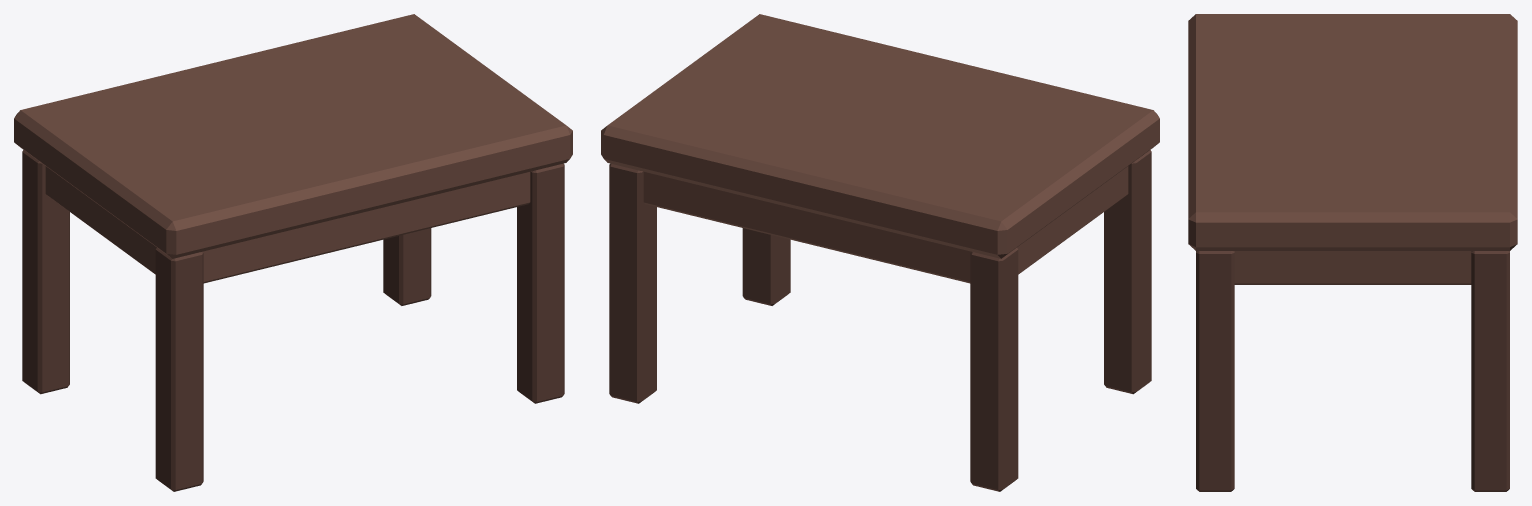
Rendered from table_couloir.glb.
3 views of the same model, side by side, from view 1: azimuth 30°, elevation 25°; view 2: azimuth 150°, elevation 25°; view 3: azimuth 270°, elevation 25° (orthographic). The views are drawn at different scales.
Parts seen in each view (by area): view 1: table_couloir; view 2: table_couloir; view 3: table_couloir.
Part boxes in pixels (bbox=[...]): table_couloir: bbox=[14, 14, 572, 491]; table_couloir: bbox=[601, 14, 1159, 491]; table_couloir: bbox=[1188, 14, 1517, 491].
Size of the model in its own units: 1.25 by 0.8 by 0.85.
Materials: 1 (1 with a texture image).
